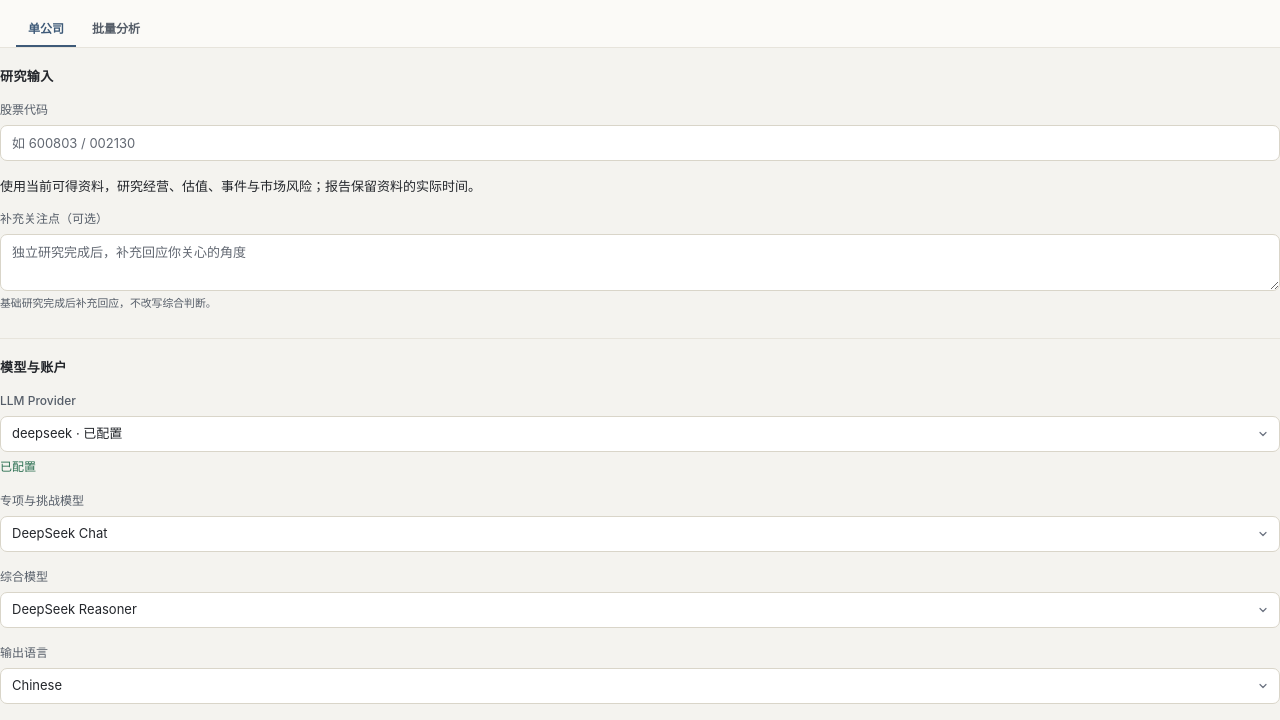
Test case: Controls › shows a VPN modal when a global ticker is blocked by the yfinance preflight
The image size is (1280, 720).
Type "AAPL" into the field labelled "股票代码" at (640, 143), box [0,125,1279,161]
(page scrolled)
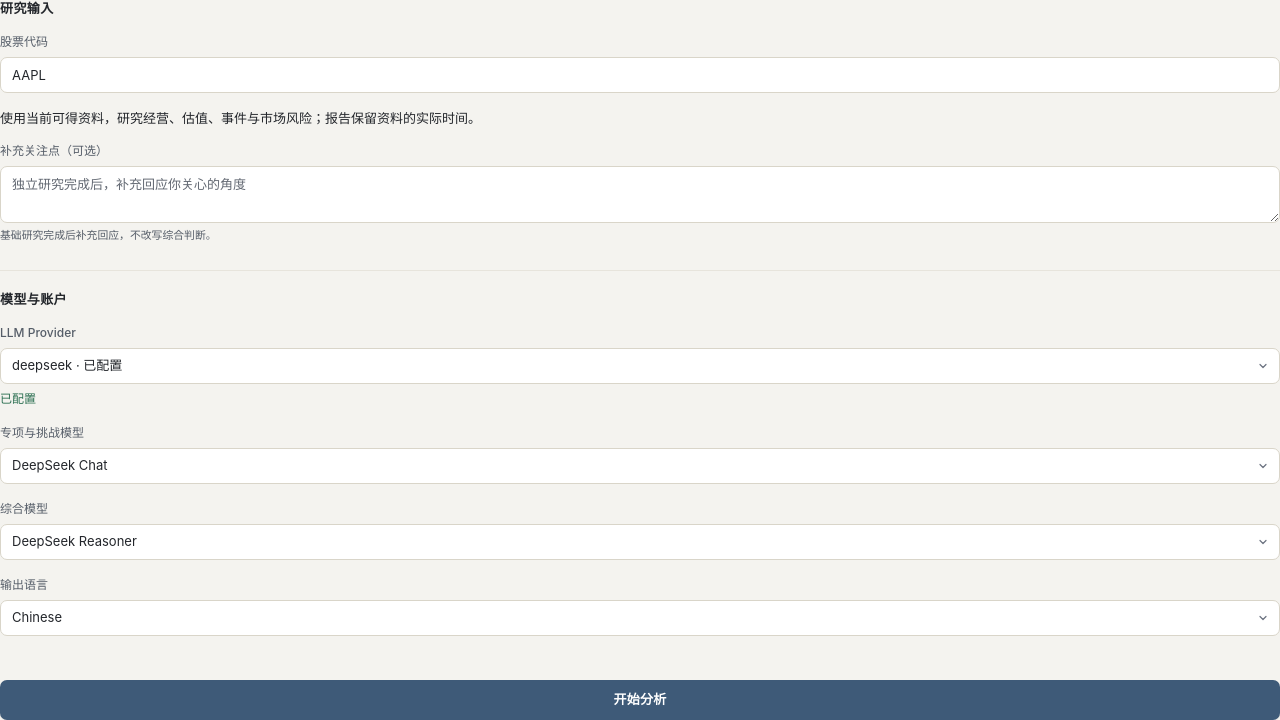
Click the button "开始分析" at (640, 700), box [0,680,1279,719]
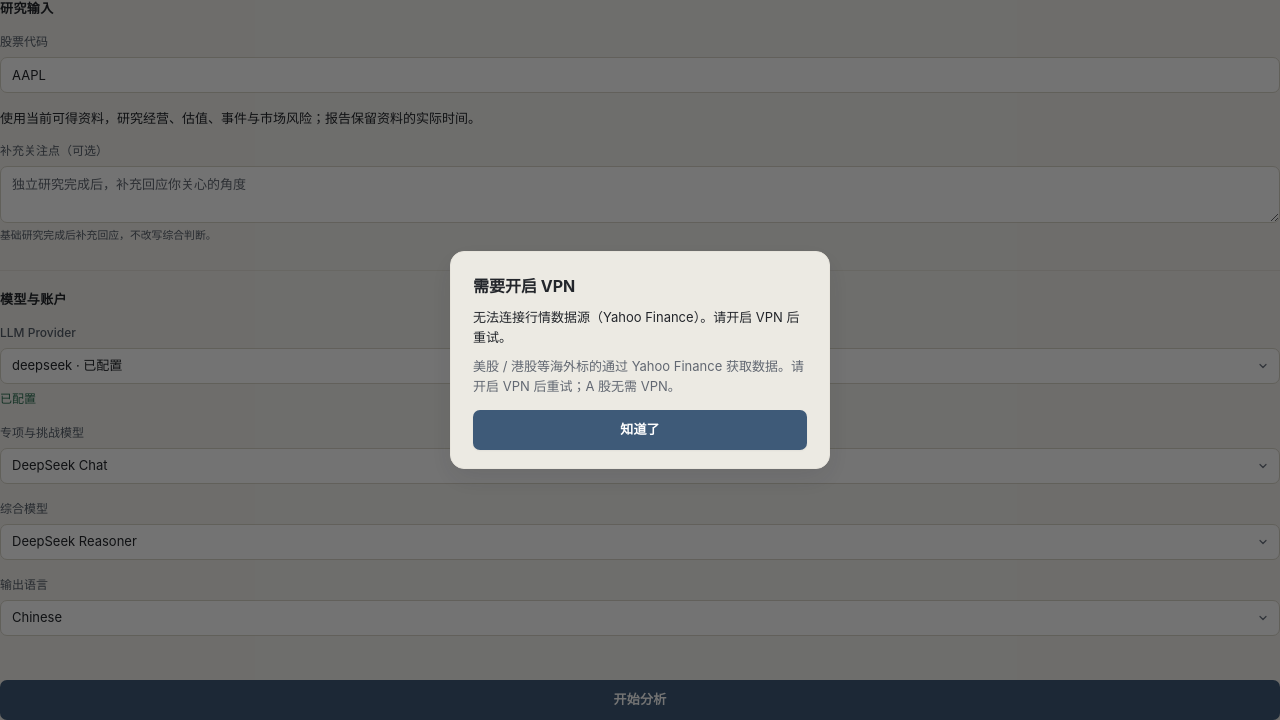
expect the dialog is shown: met, box [450,251,830,469]
expect the heading "需要开启 VPN" is shown: met, box [473,276,575,296]
expect the dialog shows "请开启 VPN 后重试": met, box [473,309,800,344]
// Dismissing via the button closes the modal.
Click the button "知道了" at (640, 430), box [473,410,807,450]
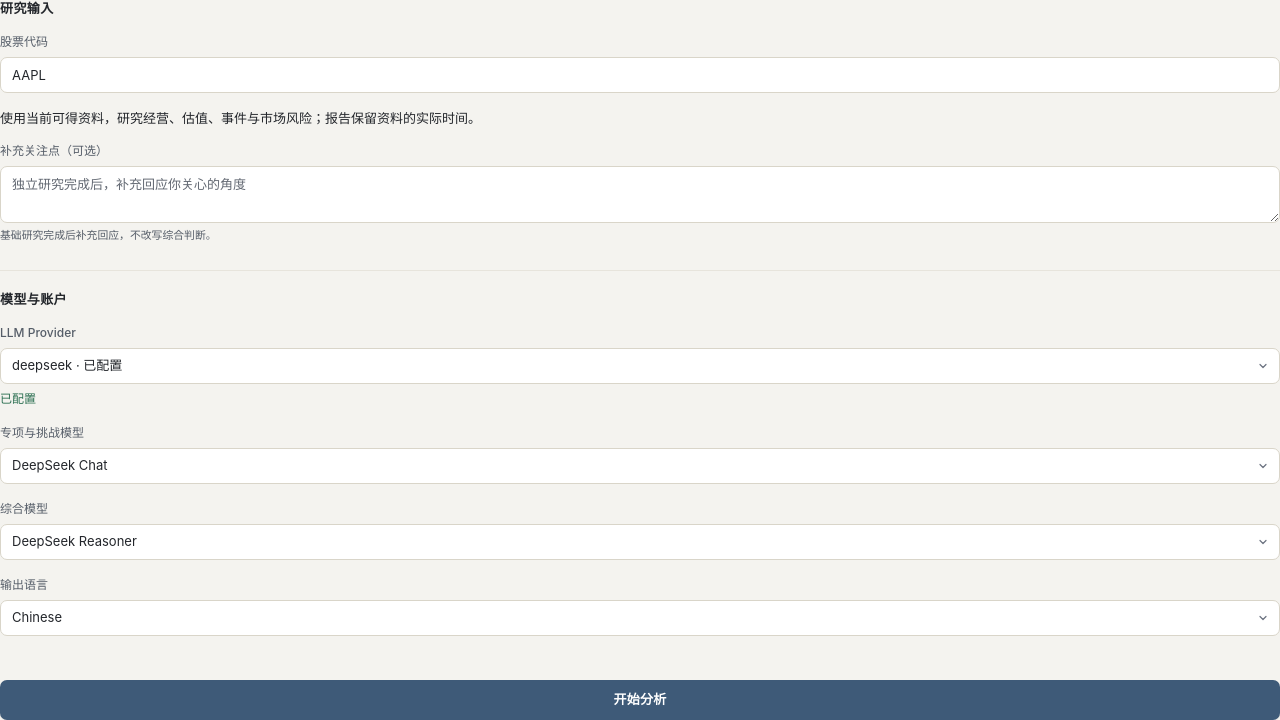
expect the dialog is gone: met
